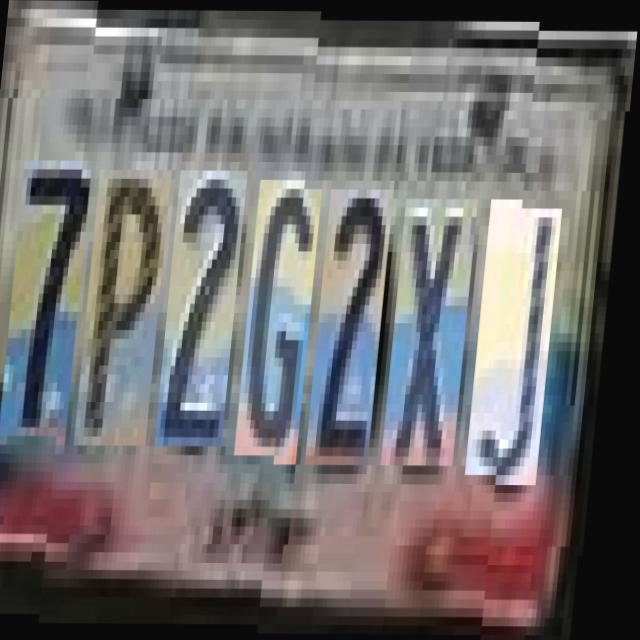2: (164, 170, 252, 446), (315, 180, 398, 456)
7: (7, 169, 95, 445)
G: (244, 180, 326, 456)
J: (476, 190, 568, 466)
P: (83, 170, 175, 446)
X: (391, 189, 483, 456)
